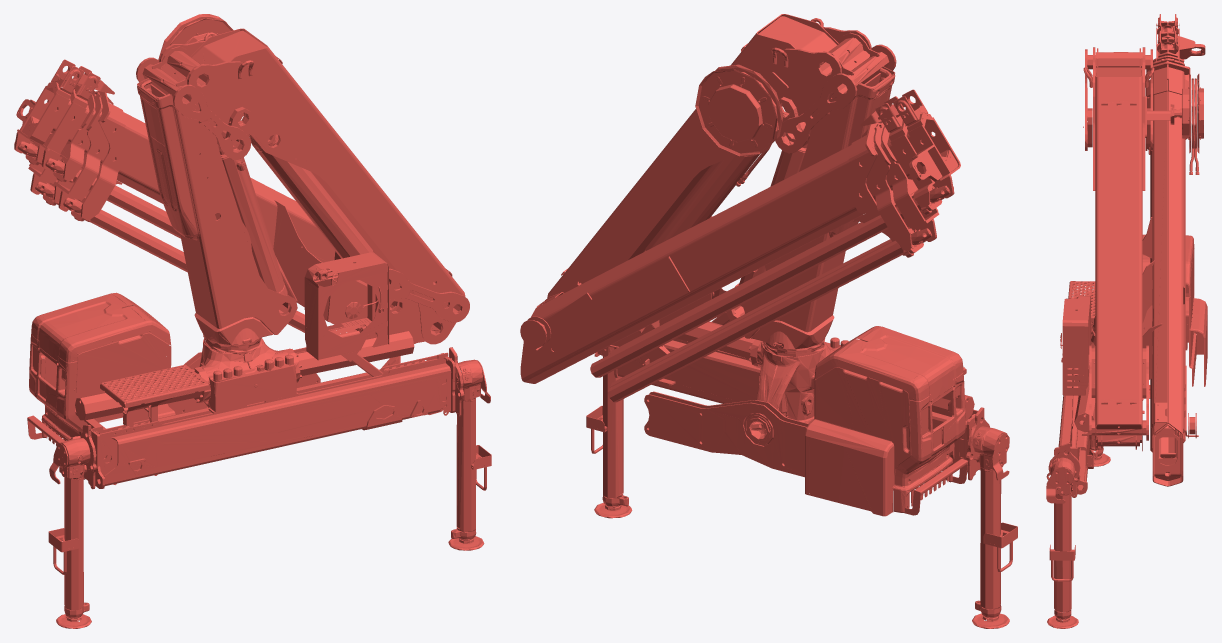
Rendered from hiab-x-hipro-142e4.glb.
The picture shows the model from 3 angles, left to right: view 1: azimuth 30°, elevation 25°; view 2: azimuth 150°, elevation 25°; view 3: azimuth 270°, elevation 25°; orthographic projection. The views are drawn at different scales.
Visible parts, largest first — view 1: slew_mesh, base_mesh; view 2: slew_mesh, base_mesh; view 3: slew_mesh, base_mesh.
Boxes of the visible parts, x1=… form: slew_mesh: x1=14, y1=14, x2=465, y2=362; base_mesh: x1=27, y1=254, x2=491, y2=628; slew_mesh: x1=520, y1=14, x2=963, y2=413; base_mesh: x1=520, y1=281, x2=1017, y2=628; slew_mesh: x1=1060, y1=14, x2=1205, y2=486; base_mesh: x1=1046, y1=247, x2=1207, y2=628.
Bounding box in the file's own units: 2.51 × 3.06 × 0.9565.
